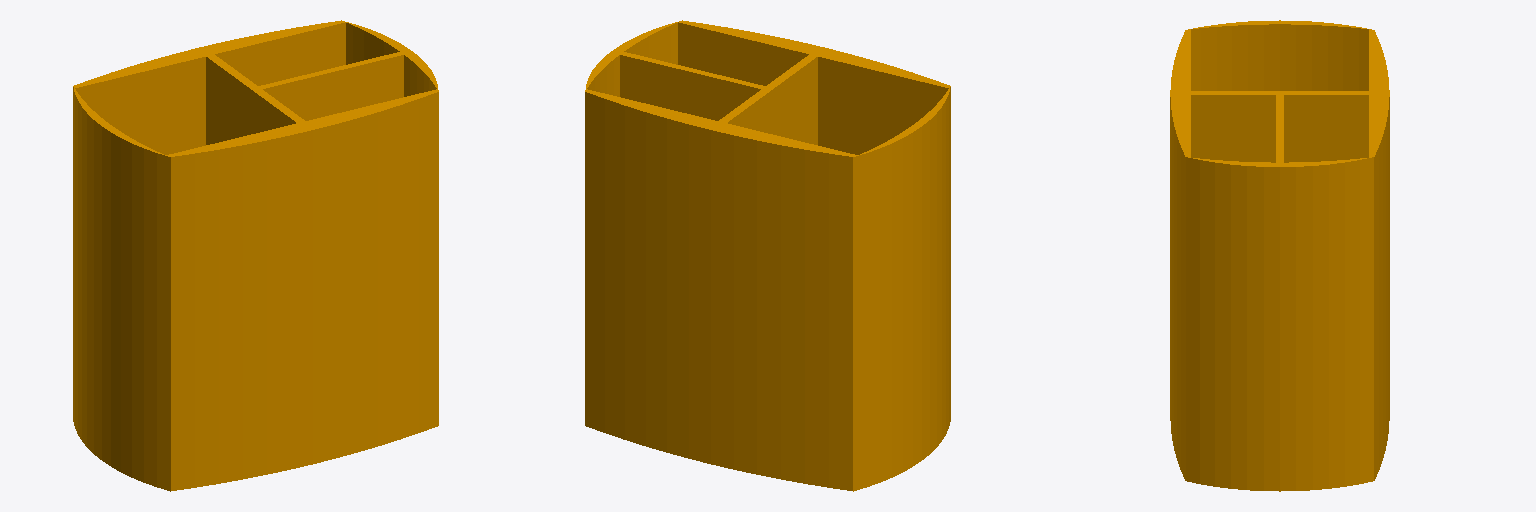
The robot description file, URDF, robot "model.urdf":
<?xml version="0.0" ?>
<robot name="model.urdf">
  <link name="model">
    <visual>
      <origin rpy="0 0 0" xyz="0 0 0.0"/>
      <geometry>
        <mesh filename="model_normalized.obj" scale="1.0 1.0 0.57"/>
      </geometry>
      <material name="blue">
      </material>
    </visual>
      <inertial>
         <origin rpy="0 0 0" xyz="0 0 0"/>
         <mass value="0.5"/>
         <inertia ixx="1" ixy="0" ixz="0" iyy="1" iyz="0" izz="1"/>
      </inertial>
    <collision>
      <origin rpy="0 0 0" xyz="0 0 0.0"/>
      <geometry>
  	<mesh filename="model_normalized_v.obj" scale="1.0 1.0 0.57"/>
      </geometry>
    </collision>
  </link>
</robot>

--- What the picture shows (computed from the rendered views, not written in the file) ---
The picture shows the robot from 3 angles, left to right: view 1: azimuth 30°, elevation 25°; view 2: azimuth 150°, elevation 25°; view 3: azimuth 270°, elevation 25°; orthographic projection.
Robot: model.urdf — 1 links, 0 joints (none); root link model; default pose: all joints at 0.
Visible links, largest first — view 1: model; view 2: model; view 3: model.
Boxes of the visible links, left/top/right/bottom form: model: left=73, top=20, right=438, bottom=491; model: left=585, top=20, right=950, bottom=491; model: left=1170, top=20, right=1389, bottom=491.
Size in the robot's own frame: 0.4629 by 0.2923 by 0.477 metres.
Meshes: 1 distinct files referenced, 1 mesh visuals loaded (1 OBJ).